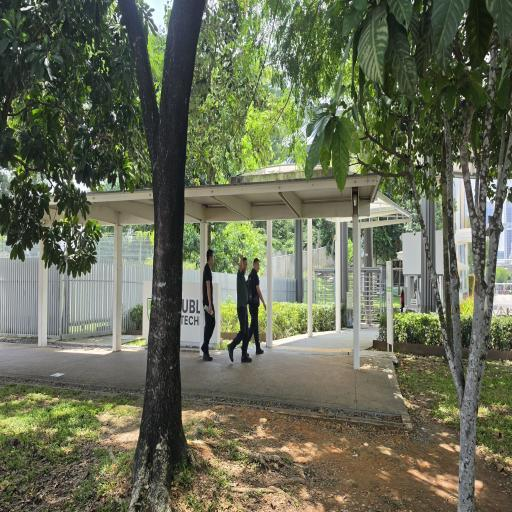person_right: (244, 252, 268, 360), (198, 238, 218, 362), (230, 244, 249, 364)
